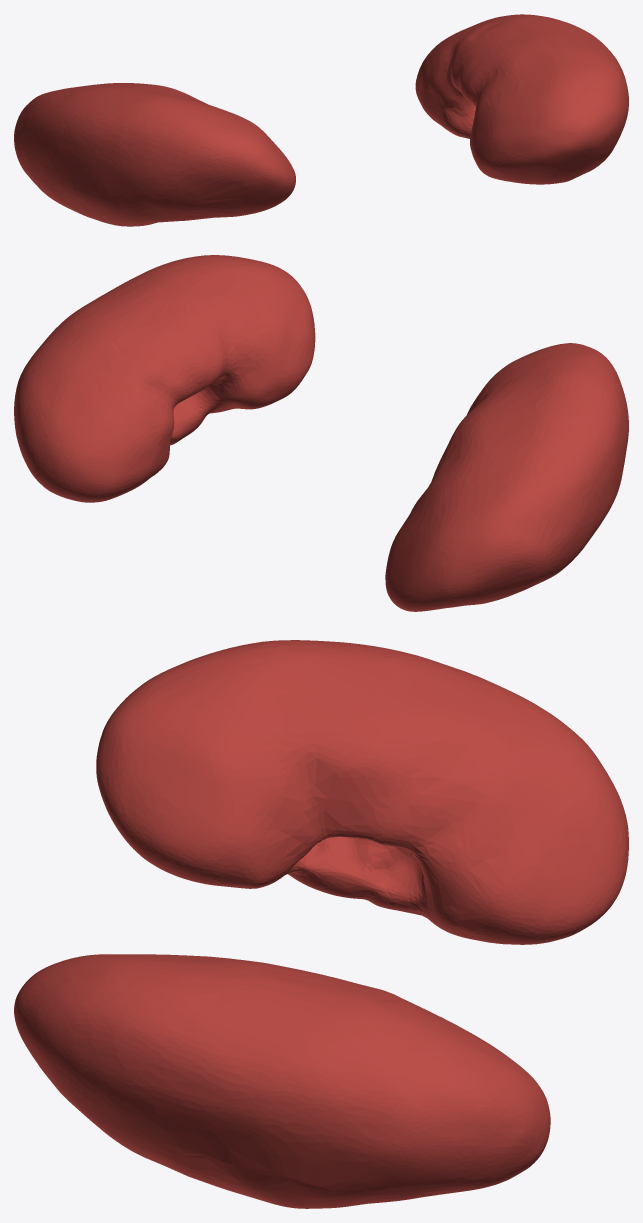
The model's file is kidneys.glb.
3 renders of one model, top to bottom at view 1: azimuth 30°, elevation 25°; view 2: azimuth 150°, elevation 25°; view 3: azimuth 270°, elevation 25°, orthographic. The views are drawn at different scales.
Bounding box in the file's own units: 181 × 53.07 × 118.
